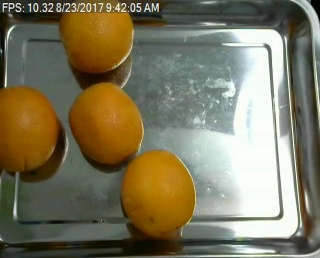Orange: (120, 148, 195, 236), (67, 82, 144, 165), (1, 86, 59, 171), (58, 13, 135, 73)
